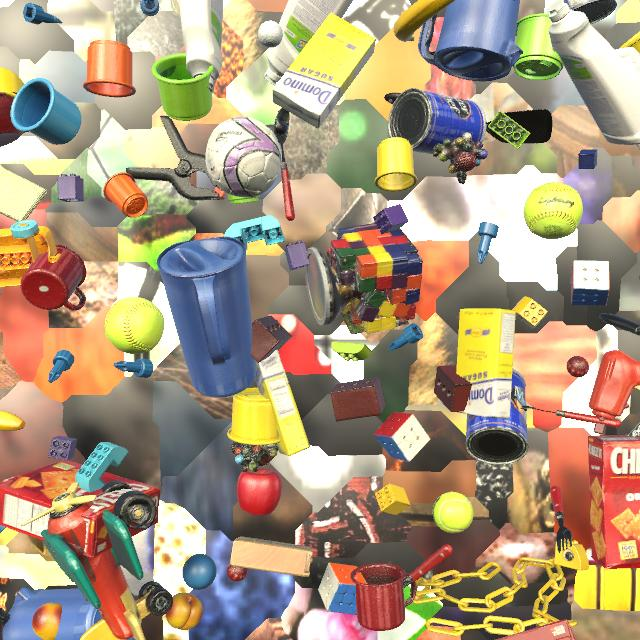ycb_002_master_chef_can: (388, 88, 486, 154), (465, 369, 528, 465)
ycb_003_cracker_box: (0, 460, 160, 558), (588, 435, 640, 569), (495, 619, 575, 640)
ycb_004_sugar_box: (272, 13, 376, 129), (456, 308, 516, 418), (255, 349, 310, 456)
ycb_007_tuna_fish_can: (563, 0, 617, 24)
ycb_011_banana: (393, 0, 455, 42), (0, 410, 25, 431)
ycb_013_apple: (237, 468, 282, 516)
ycb_015_peach: (165, 593, 203, 630), (32, 603, 62, 640)
